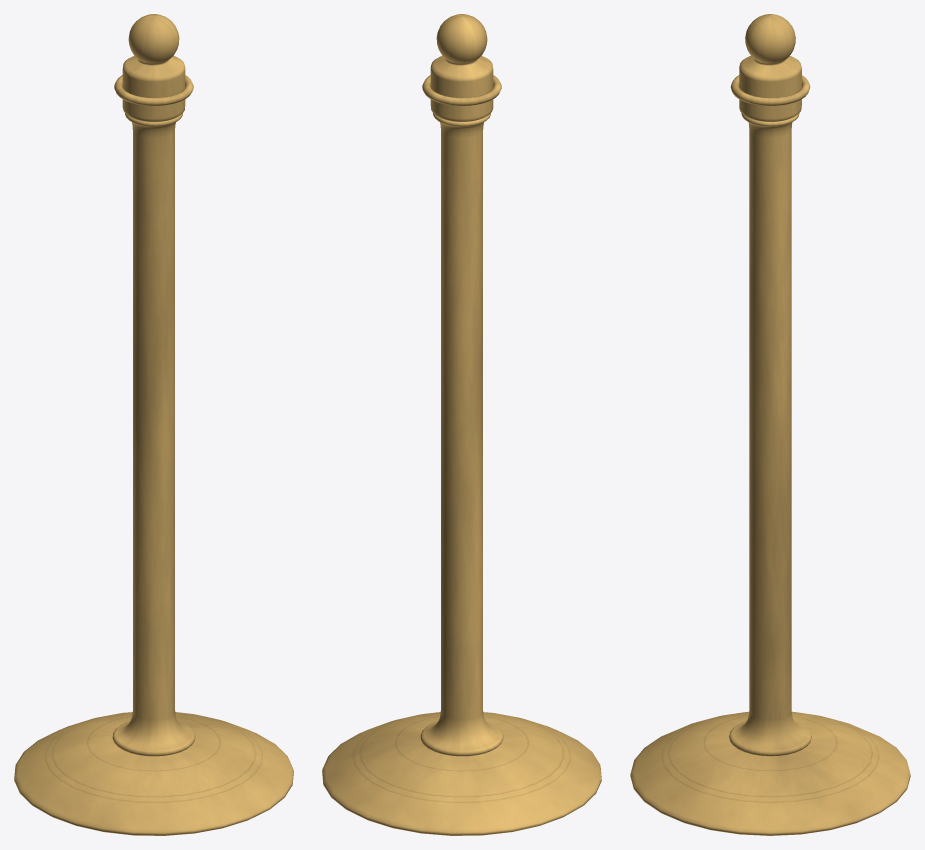
File: bariyer_direk.glb
3 views of the same model, side by side, from view 1: azimuth 30°, elevation 25°; view 2: azimuth 150°, elevation 25°; view 3: azimuth 270°, elevation 25° (orthographic).
Visible parts, largest first — view 1: Brass_Post; view 2: Brass_Post; view 3: Brass_Post.
Boxes of the visible parts, bbox=[...] form: Brass_Post: bbox=[14, 14, 293, 835]; Brass_Post: bbox=[322, 14, 601, 835]; Brass_Post: bbox=[630, 14, 910, 835].
Size of the model in its own units: 0.331 by 0.992 by 0.331.
Materials: 1 (1 with a texture image).
